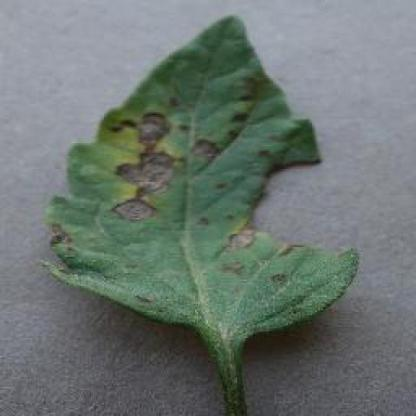Tomato_Blight: (46, 15, 358, 336)
